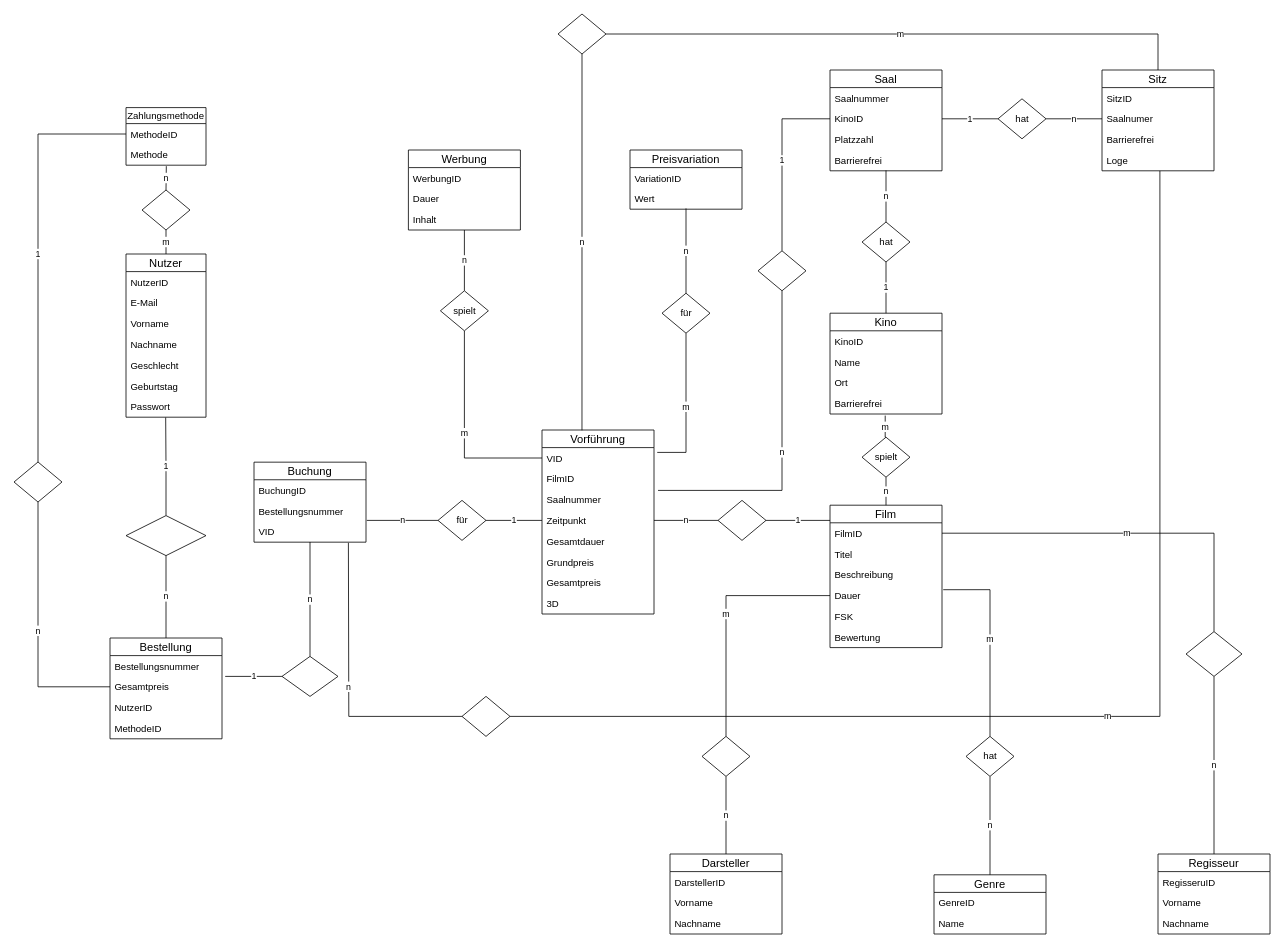
This 1284x950 diagram has some shape labels left out. The shapes that lost their labels are listed below. From the top down, each one's centre as x and y in pixels, then its label:
(581,33): frei
(165,209): Nutzt
(781,270): in
(37,481): zahlt mit
(165,535): Nimmt vor
(741,520): zeigt
(1213,653): führt Regie
(309,676): Beinhaltet
(485,716): bucht
(725,756): spielt in
